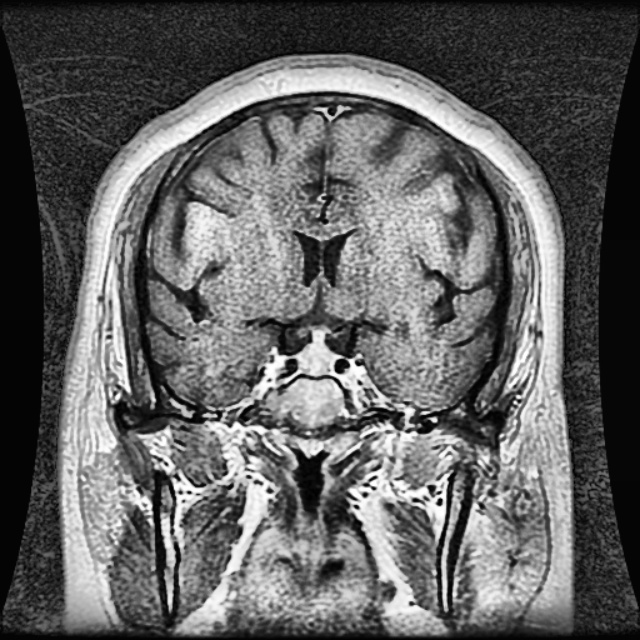Pituitary: (298, 328, 333, 375)
